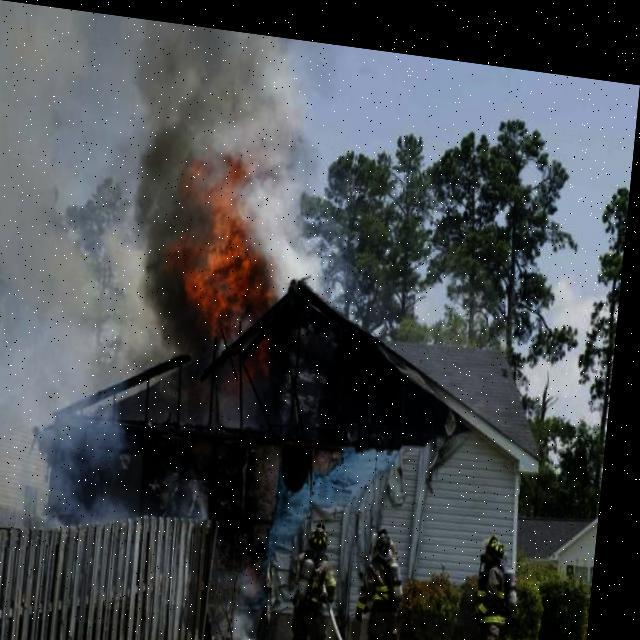Fire: (97, 88, 351, 404)
